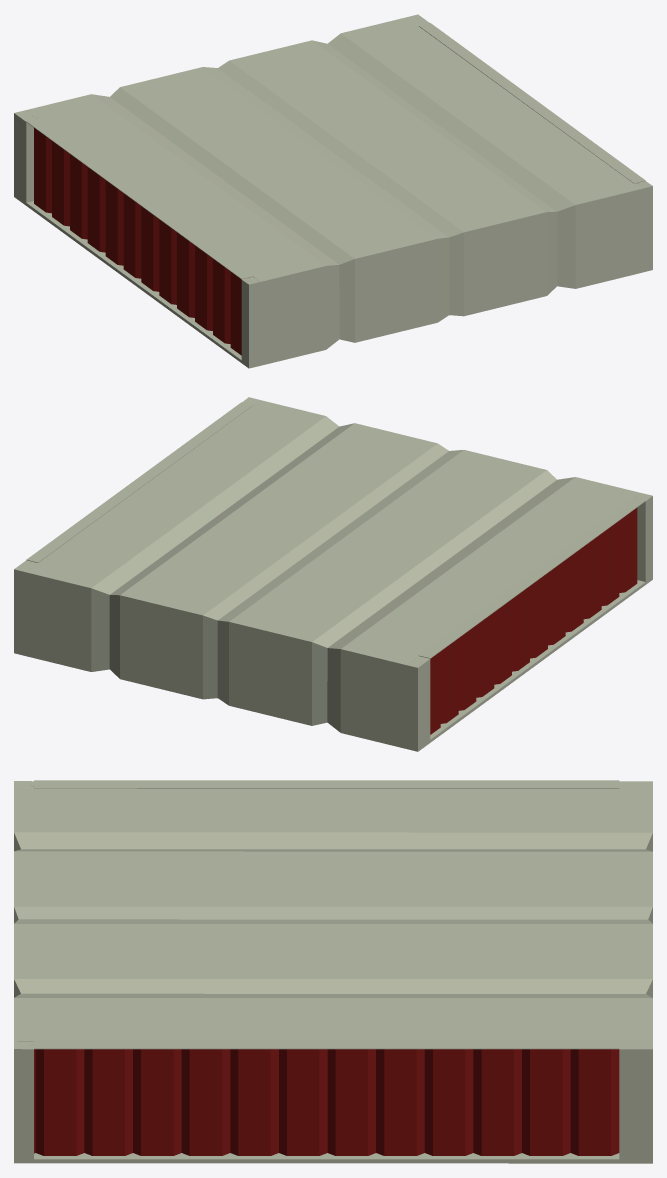
File: Bridge Small.fbx
3 renders of one model, top to bottom at view 1: azimuth 30°, elevation 25°; view 2: azimuth 150°, elevation 25°; view 3: azimuth 270°, elevation 25°, orthographic. The views are drawn at different scales.
Visible parts, largest first — view 1: BridgeSmall; view 2: BridgeSmall; view 3: BridgeSmall.
Part boxes in pixels (x1=…): BridgeSmall: x1=14, y1=14, x2=652, y2=368; BridgeSmall: x1=14, y1=397, x2=652, y2=751; BridgeSmall: x1=14, y1=780, x2=652, y2=1163.
Bounding box in the file's own units: 500 × 100 × 503.
